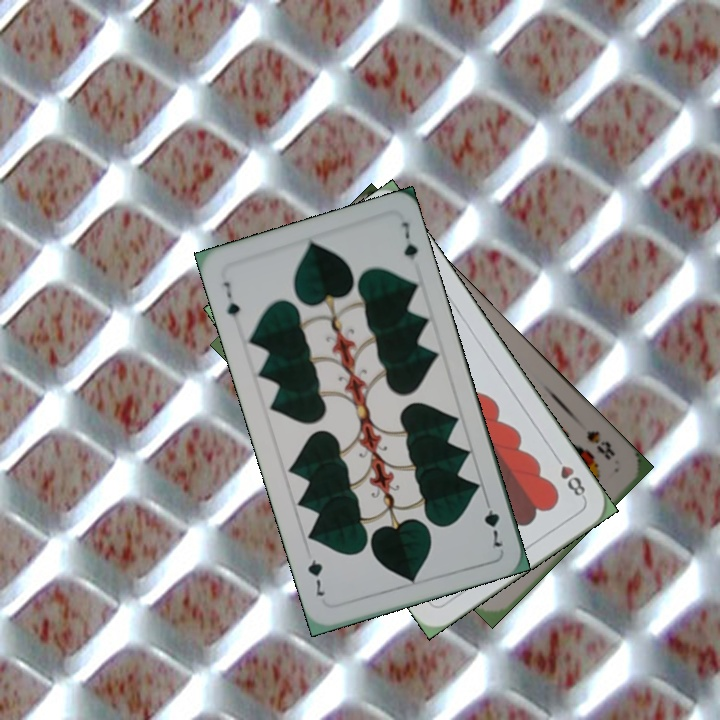G7: (480, 493, 505, 551), (219, 277, 243, 320)
H8: (549, 450, 588, 502)
S8: (582, 426, 618, 464)
